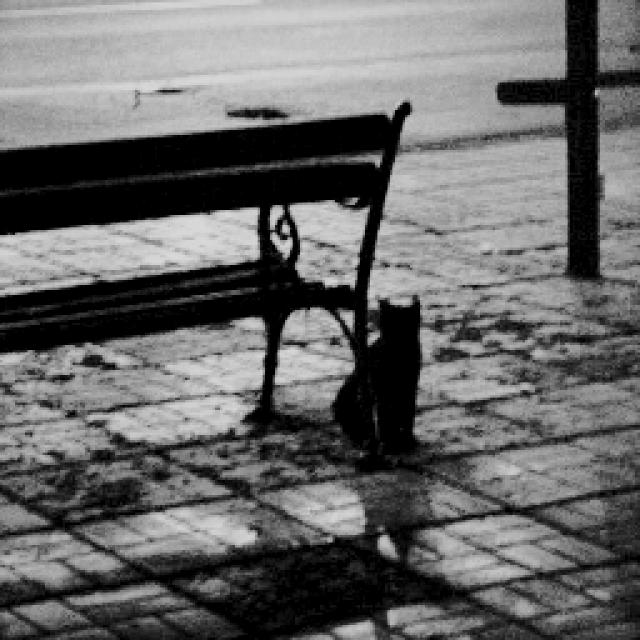cat: (313, 255, 447, 480)
